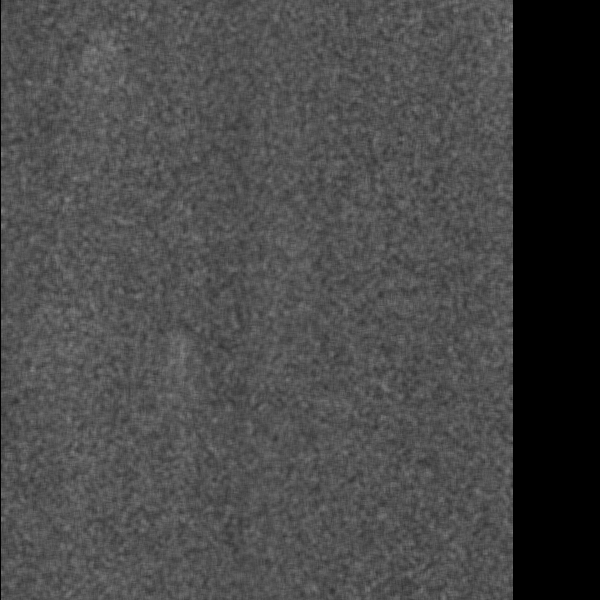spark: (171, 330, 193, 407), (83, 43, 108, 65)
